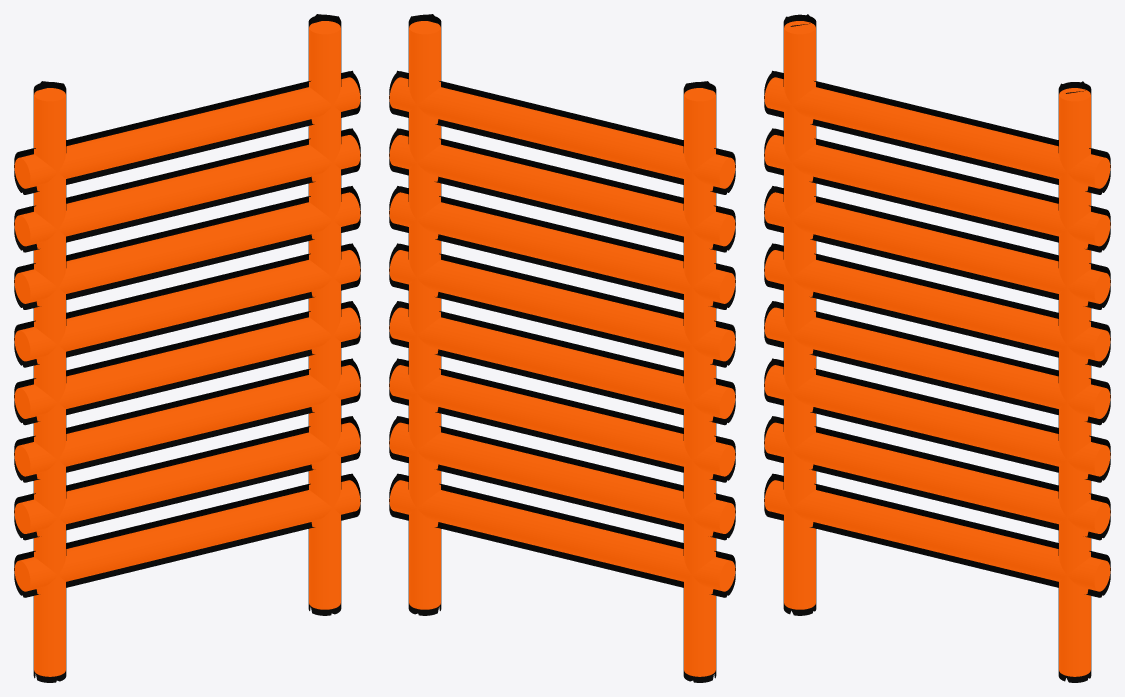
The model's file is Ladder.fbx.
The picture shows the model from 3 angles, left to right: view 1: azimuth 30°, elevation 25°; view 2: azimuth 150°, elevation 25°; view 3: azimuth 330°, elevation 25°; orthographic projection.
Visible parts, largest first — view 1: Ladder; view 2: Ladder; view 3: Ladder.
Boxes of the visible parts, x1,y1,x2,y2 form: Ladder: (14, 14, 360, 682); Ladder: (389, 14, 735, 682); Ladder: (764, 14, 1110, 682).
Bounding box in the file's own units: 2.41 × 0.206 × 4.1.
